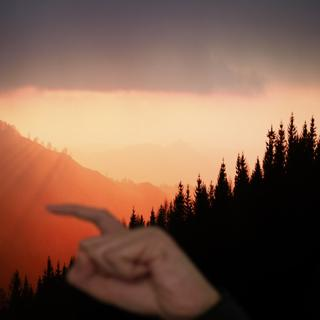WHY: (34, 195, 217, 320)
